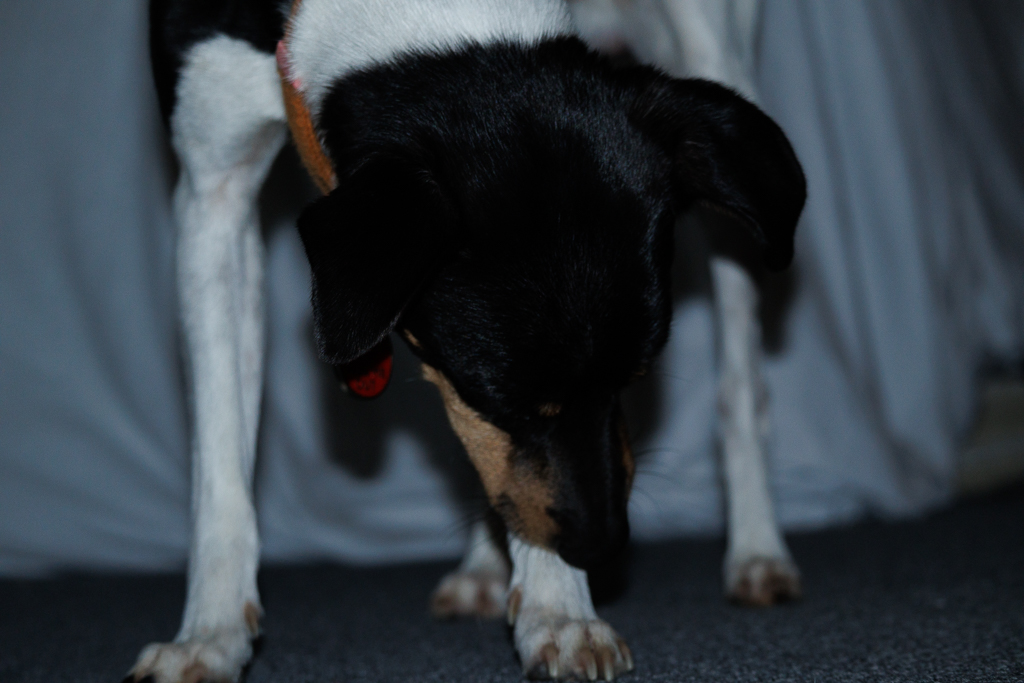Dog: (112, 0, 815, 683)
